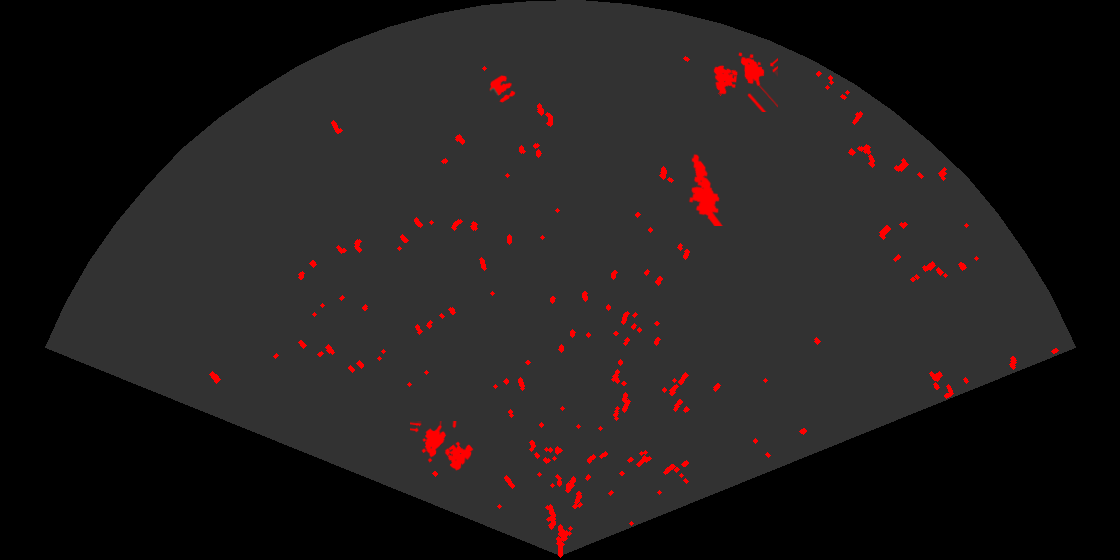ball: (488, 74, 517, 104)
cage: (712, 51, 778, 112), (410, 421, 475, 472)
frogman: (687, 152, 725, 226)
